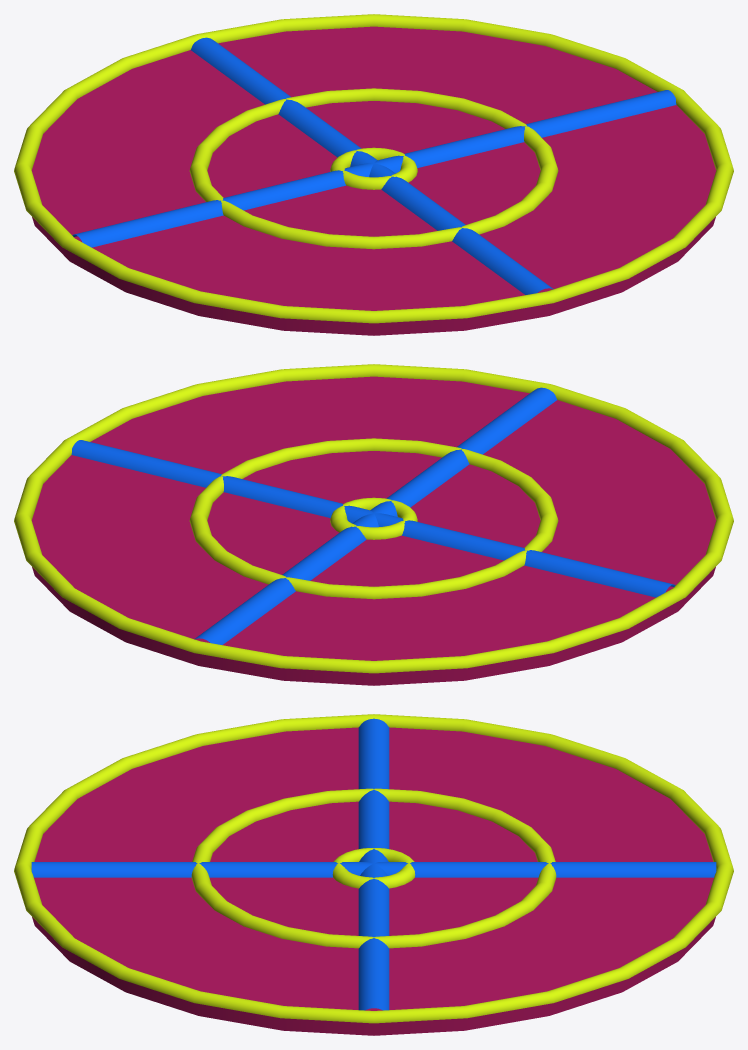
The model's file is archery-target.obj.
3 renders of one model, top to bottom at view 1: azimuth 30°, elevation 25°; view 2: azimuth 150°, elevation 25°; view 3: azimuth 270°, elevation 25°, orthographic.
Visible parts, largest first — view 1: Cylinder, Torus2, Torus1, Cylinder1, Cylinder2, Torus; view 2: Cylinder, Torus2, Torus1, Cylinder1, Cylinder2, Torus; view 3: Cylinder, Torus2, Torus1, Cylinder2, Cylinder1, Torus.
Part boxes in pixels (box(x1,y1,x2,y2)): Cylinder: box(31, 26, 716, 335); Torus2: box(14, 14, 733, 323); Torus1: box(189, 88, 558, 249); Cylinder1: box(72, 90, 676, 247); Cylinder2: box(191, 37, 553, 294); Torus: box(330, 147, 417, 189); Cylinder: box(31, 376, 716, 685); Torus2: box(14, 364, 733, 673); Torus1: box(189, 438, 558, 599); Cylinder1: box(71, 440, 675, 597); Cylinder2: box(194, 387, 556, 644); Torus: box(330, 497, 417, 539); Cylinder: box(32, 727, 715, 1035); Torus2: box(14, 714, 733, 1023); Torus1: box(191, 788, 556, 948); Cylinder2: box(31, 862, 716, 877); Cylinder1: box(358, 718, 389, 1010); Torus: box(332, 848, 415, 888).
Bounding box in the file's own units: 4.1 × 0.1511 × 4.1.
